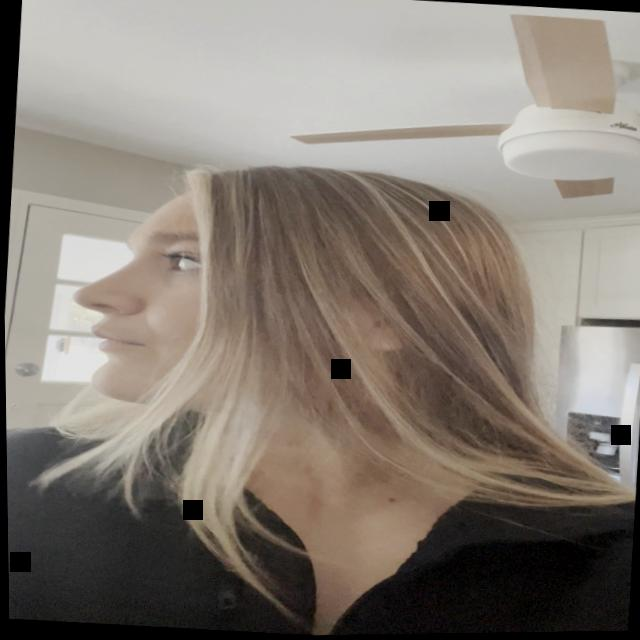NO-Mask: (60, 180, 222, 413)
